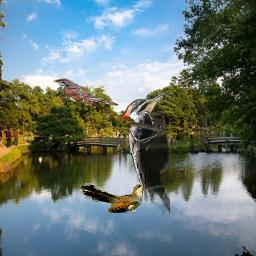Cuckoo: (53, 77, 120, 109), (80, 183, 149, 213)
Woodpecker: (120, 93, 170, 221)
